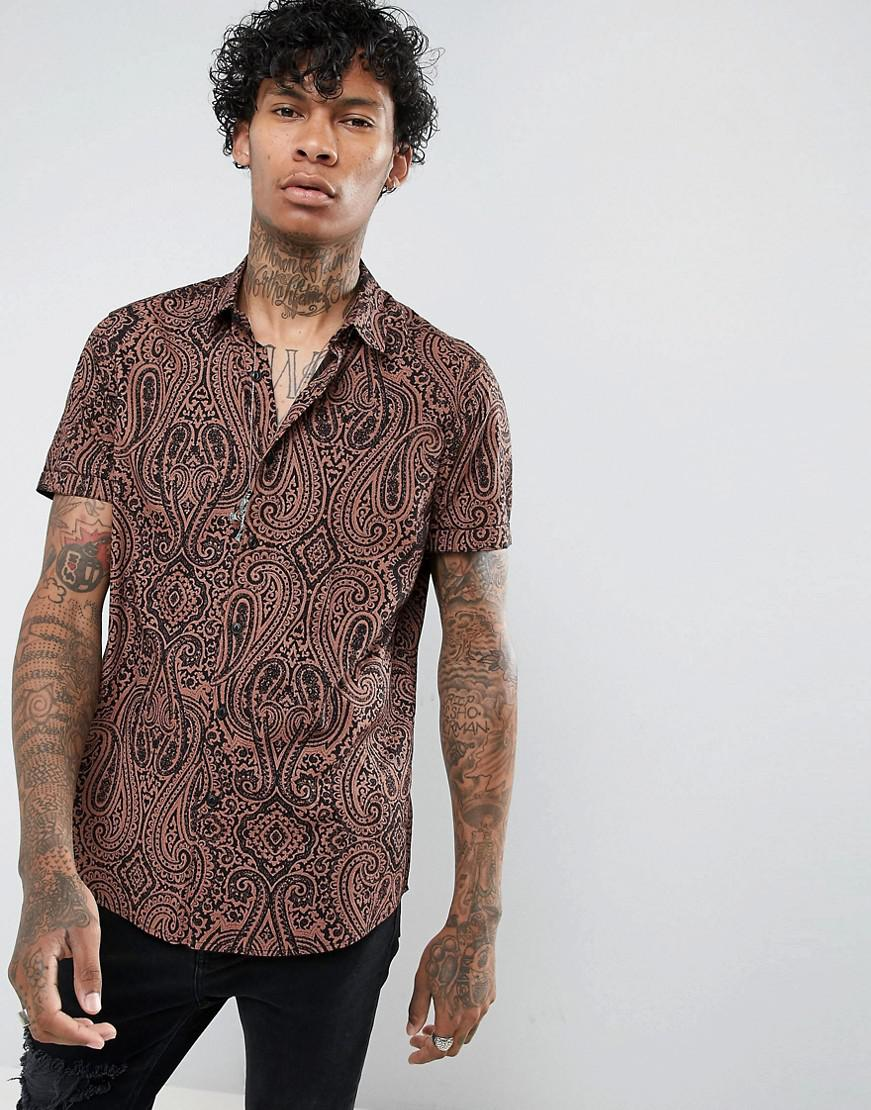teeshirt: (18, 246, 561, 995)
